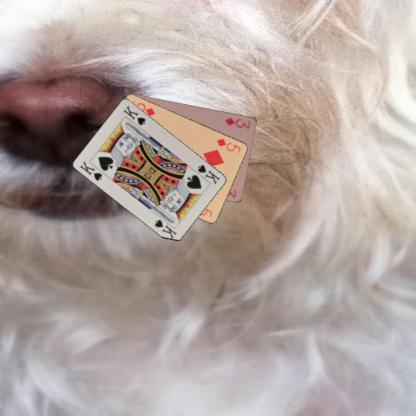3d: (222, 114, 252, 130)
5d: (214, 136, 242, 154)
Ks: (78, 158, 104, 182), (196, 162, 222, 185)
